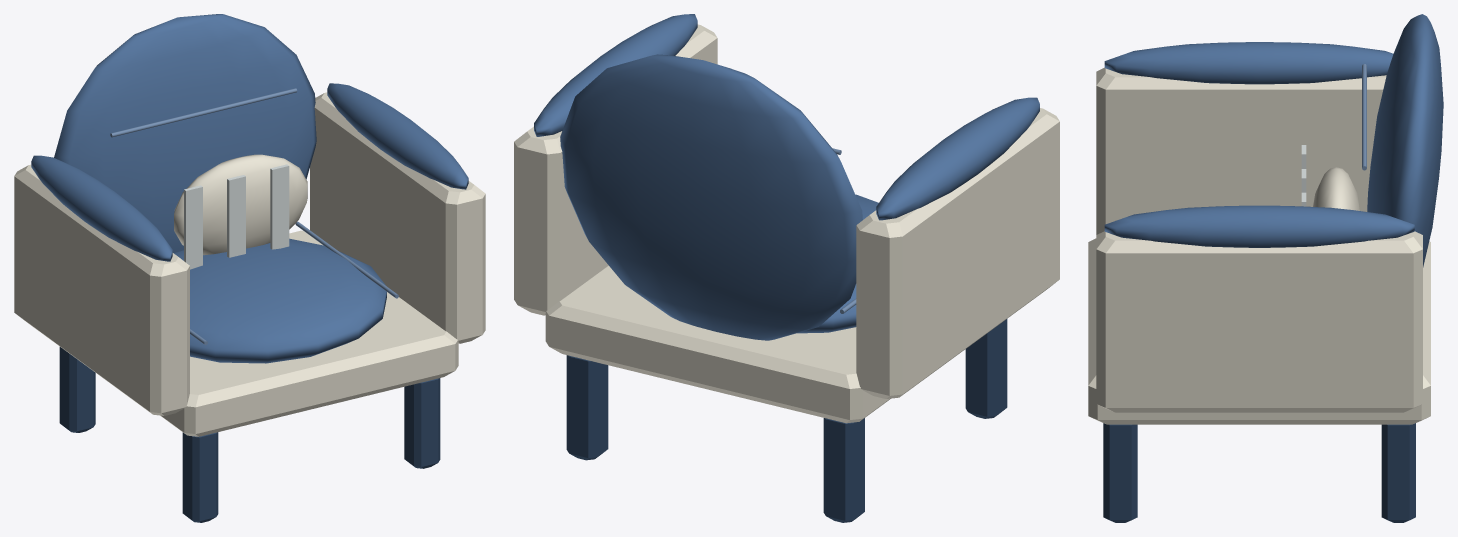
Rendered from v18_reading_chair.glb.
3 views of the same model, side by side, from view 1: azimuth 30°, elevation 25°; view 2: azimuth 150°, elevation 25°; view 3: azimuth 270°, elevation 25° (orthographic). The views are drawn at different scales.
Parts seen in each view (by area): view 1: _MeshInstance3D_2130, _MeshInstance3D_2131, _MeshInstance3D_2133, _MeshInstance3D_2129, _MeshInstance3D_2128, _MeshInstance3D_2135, _MeshInstance3D_2132, _MeshInstance3D_2134, _MeshInstance3D_2125, _MeshInstance3D_2127, _MeshInstance3D_2124, _MeshInstance3D_2138 (+4 smaller); view 2: _MeshInstance3D_2130, _MeshInstance3D_2131, _MeshInstance3D_2128, _MeshInstance3D_2133, _MeshInstance3D_2132, _MeshInstance3D_2134, _MeshInstance3D_2126, _MeshInstance3D_2124, _MeshInstance3D_2125, _MeshInstance3D_2129; view 3: _MeshInstance3D_2133, _MeshInstance3D_2131, _MeshInstance3D_2130, _MeshInstance3D_2134, _MeshInstance3D_2132, _MeshInstance3D_2128, _MeshInstance3D_2127, _MeshInstance3D_2126, _MeshInstance3D_2135, _MeshInstance3D_2141.
Part boxes in pixels (x1=…): _MeshInstance3D_2130: x1=54, y1=14, x2=316, y2=253; _MeshInstance3D_2131: x1=14, y1=164, x2=189, y2=415; _MeshInstance3D_2133: x1=310, y1=92, x2=485, y2=343; _MeshInstance3D_2129: x1=174, y1=238, x2=386, y2=363; _MeshInstance3D_2128: x1=160, y1=230, x2=458, y2=436; _MeshInstance3D_2135: x1=174, y1=154, x2=307, y2=255; _MeshInstance3D_2132: x1=31, y1=155, x2=172, y2=261; _MeshInstance3D_2134: x1=327, y1=83, x2=468, y2=189; _MeshInstance3D_2125: x1=182, y1=432, x2=218, y2=522; _MeshInstance3D_2127: x1=404, y1=378, x2=440, y2=468; _MeshInstance3D_2124: x1=59, y1=347, x2=95, y2=432; _MeshInstance3D_2138: x1=270, y1=164, x2=289, y2=249; _MeshInstance3D_2130: x1=560, y1=54, x2=862, y2=340; _MeshInstance3D_2131: x1=856, y1=108, x2=1059, y2=398; _MeshInstance3D_2128: x1=545, y1=265, x2=890, y2=423; _MeshInstance3D_2133: x1=514, y1=24, x2=717, y2=315; _MeshInstance3D_2132: x1=876, y1=97, x2=1039, y2=220; _MeshInstance3D_2134: x1=534, y1=14, x2=697, y2=136; _MeshInstance3D_2126: x1=566, y1=355, x2=608, y2=460; _MeshInstance3D_2124: x1=823, y1=418, x2=864, y2=522; _MeshInstance3D_2125: x1=965, y1=319, x2=1007, y2=418; _MeshInstance3D_2129: x1=797, y1=194, x2=878, y2=333; _MeshInstance3D_2133: x1=1096, y1=231, x2=1422, y2=412; _MeshInstance3D_2131: x1=1096, y1=67, x2=1386, y2=234; _MeshInstance3D_2130: x1=1367, y1=14, x2=1443, y2=267; _MeshInstance3D_2134: x1=1104, y1=205, x2=1414, y2=247; _MeshInstance3D_2132: x1=1104, y1=42, x2=1393, y2=84; _MeshInstance3D_2128: x1=1088, y1=238, x2=1430, y2=424; _MeshInstance3D_2127: x1=1103, y1=423, x2=1137, y2=522; _MeshInstance3D_2126: x1=1381, y1=423, x2=1415, y2=522; _MeshInstance3D_2135: x1=1313, y1=167, x2=1360, y2=210; _MeshInstance3D_2141: x1=1362, y1=64, x2=1366, y2=170.
Bounding box in the file's own units: 1.02 × 1.09 × 0.8236.
